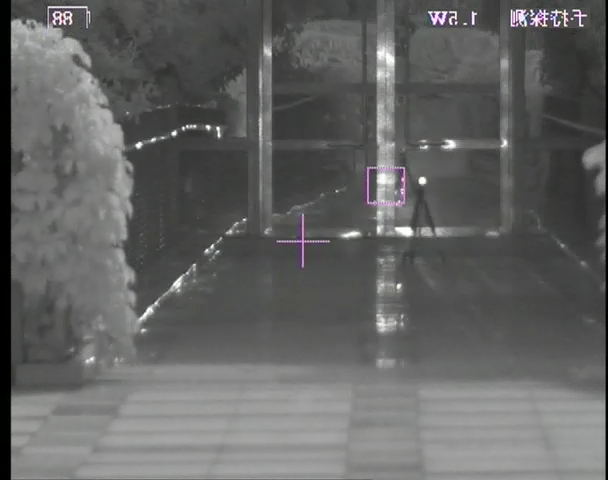my: (417, 175, 428, 187)
